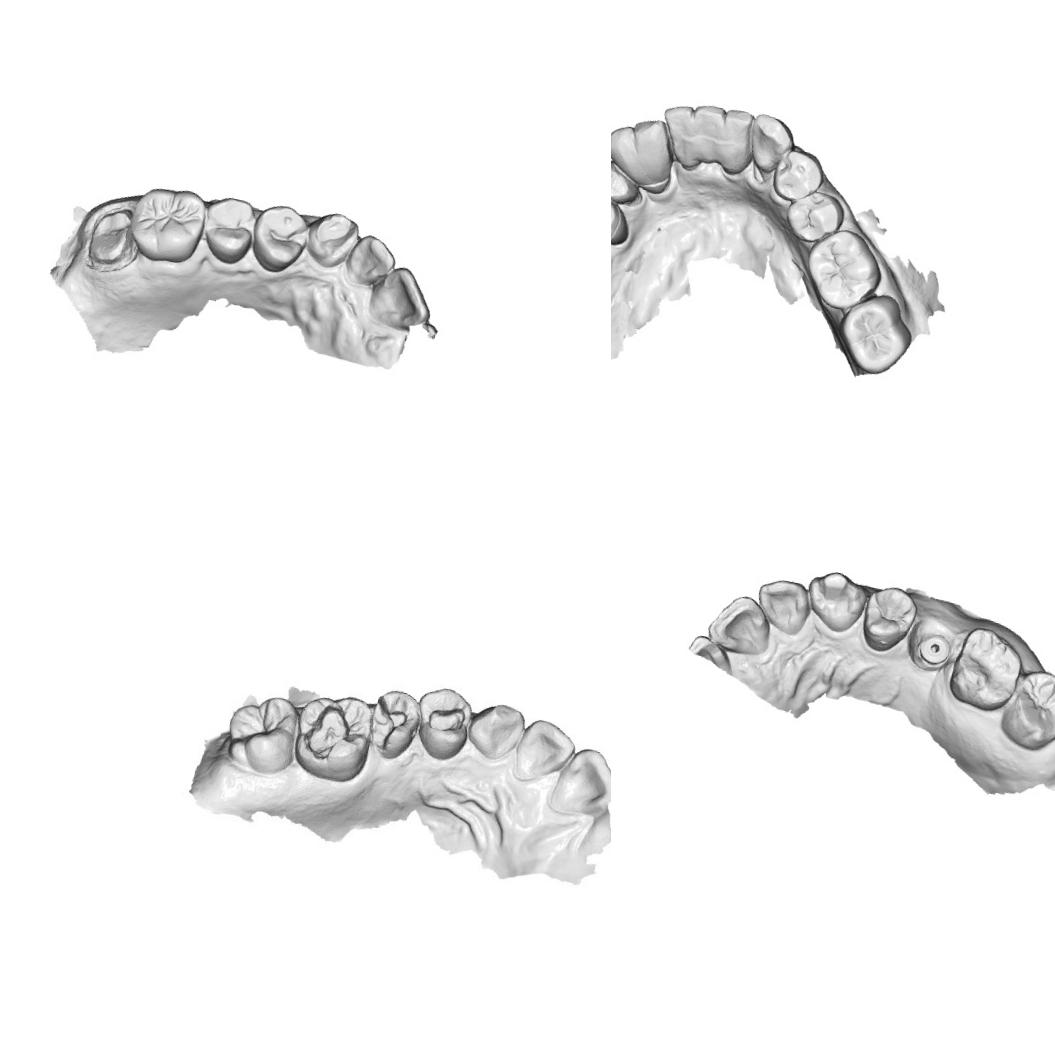canine: (799, 569, 870, 637), (464, 696, 526, 766), (299, 206, 362, 274), (738, 109, 800, 178), (611, 120, 648, 179)
crown: (82, 201, 144, 276)
implant: (908, 627, 954, 675)
incisor: (702, 588, 778, 660), (364, 261, 438, 332), (553, 740, 611, 823), (750, 572, 816, 640), (514, 718, 578, 786), (622, 113, 682, 178), (340, 230, 400, 294), (652, 98, 705, 168), (712, 104, 758, 176), (682, 100, 730, 162)
inlay: (297, 694, 367, 771), (362, 684, 418, 757), (420, 692, 470, 744)
molar: (796, 221, 890, 318), (216, 688, 308, 782), (830, 285, 920, 381), (123, 178, 211, 268), (944, 622, 1028, 716), (995, 663, 1055, 758)
premolar: (245, 198, 313, 278), (195, 190, 262, 268), (856, 580, 922, 659), (779, 184, 849, 250), (767, 144, 828, 206), (611, 154, 644, 208), (611, 190, 635, 250)
